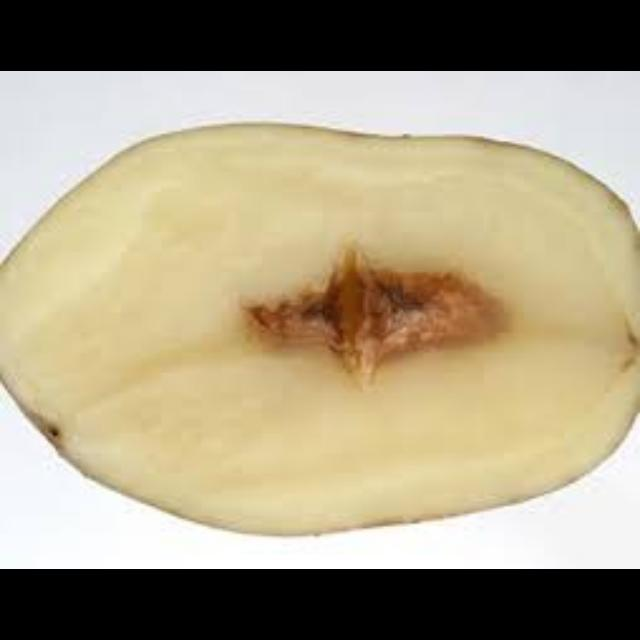Diseased-fungal potato: (0, 108, 640, 540)
